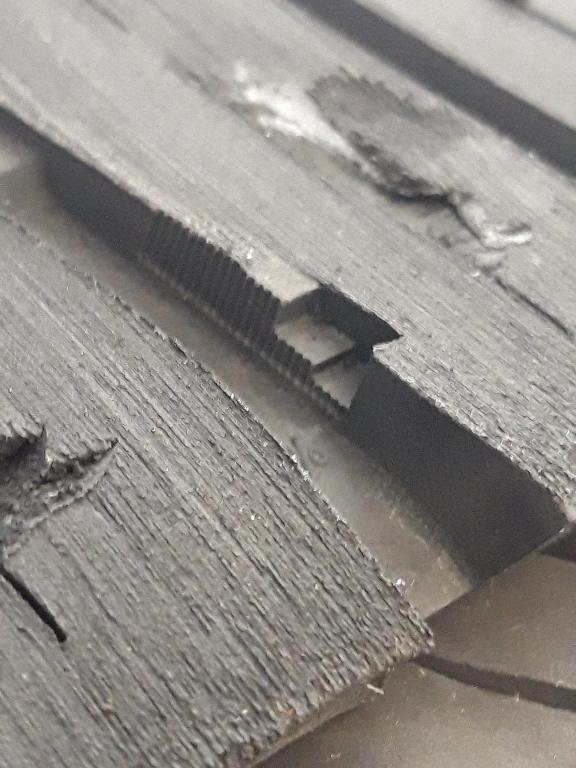temoin:50: (204, 240, 415, 443)
